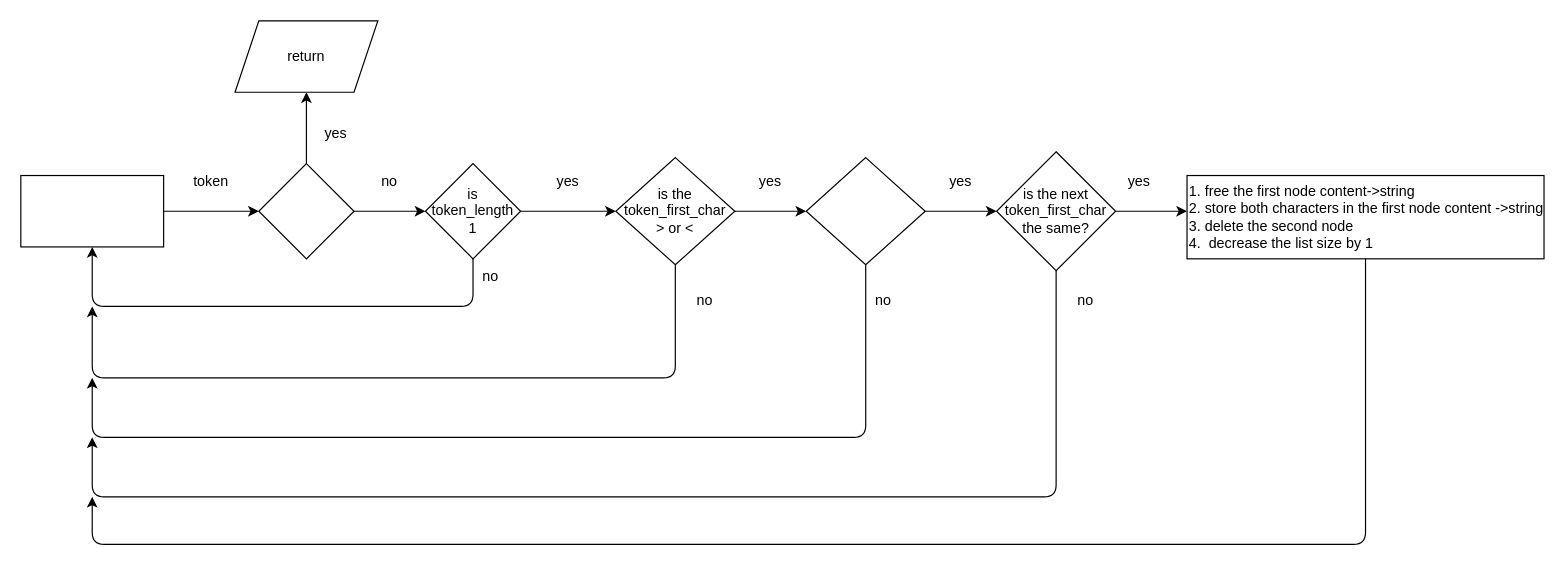
This 1565x575 diagram has some shape labels left out. Each missing label, with the box of its shape:
is next NULL?: (258, 162, 354, 259)
is the next token_length 1: (805, 156, 925, 265)
tokens linked list: (20, 174, 164, 247)
